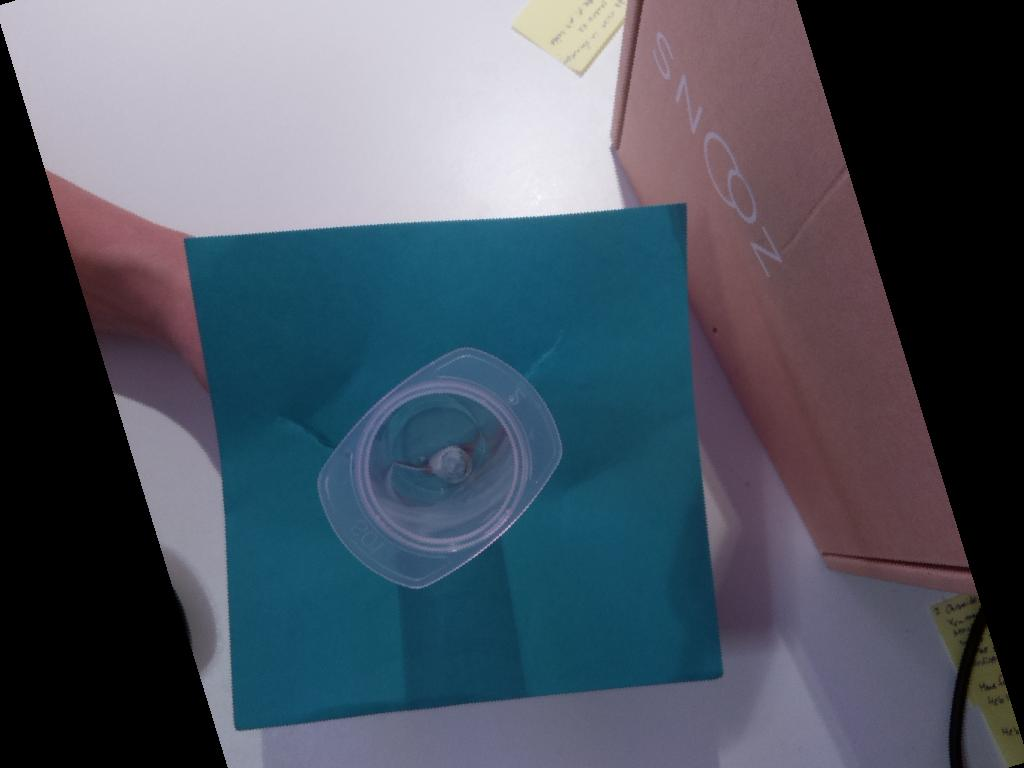clean: (298, 326, 580, 608)
